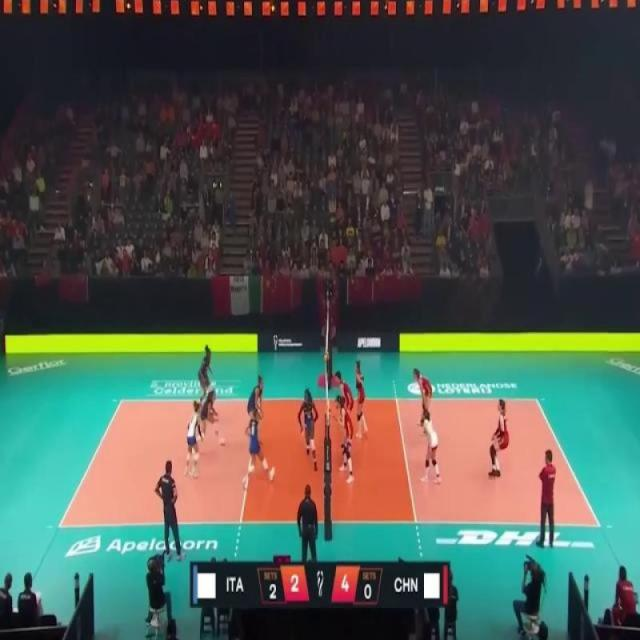volleyball: (324, 350, 331, 362)
